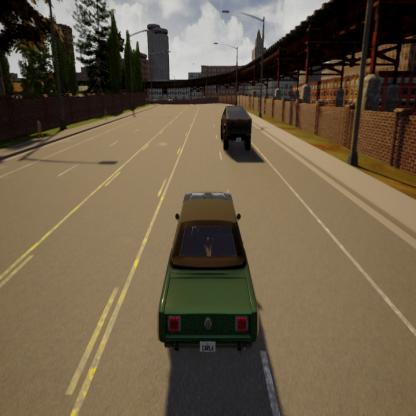Cars: (157, 188, 260, 356), (220, 100, 253, 152)
Pedestrian: (36, 117, 43, 142), (103, 102, 108, 125)
